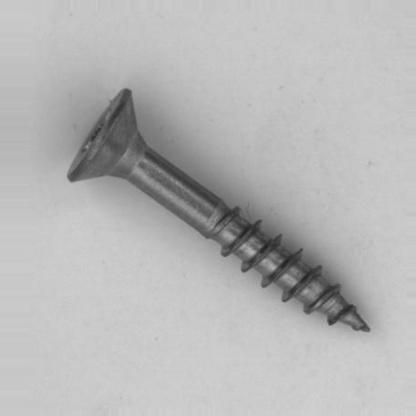metal: (66, 87, 370, 333)
